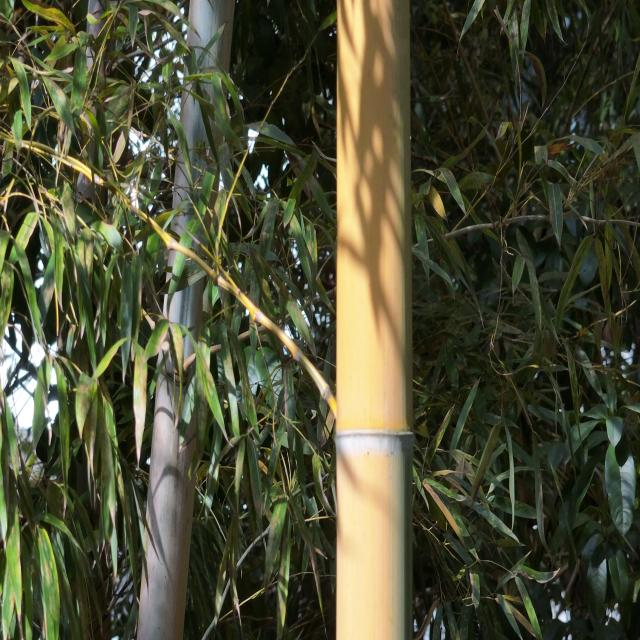Bamboo-shoots: (339, 0, 413, 640)
